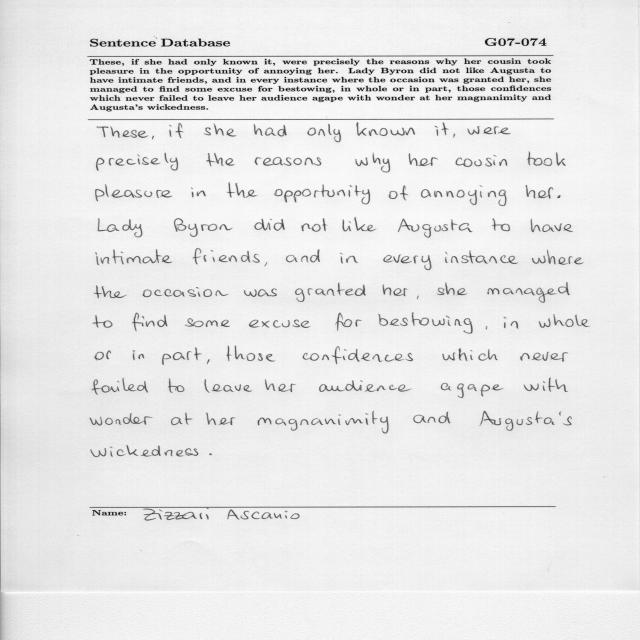word: (258, 411, 389, 434), (378, 313, 473, 334), (303, 346, 413, 364), (275, 185, 371, 205), (479, 411, 572, 431), (421, 186, 506, 207), (487, 282, 570, 303), (97, 153, 178, 171), (398, 219, 472, 238), (295, 283, 366, 302), (96, 184, 172, 201), (91, 445, 198, 457), (96, 249, 172, 265), (193, 248, 260, 265), (174, 218, 233, 237), (319, 380, 411, 392), (445, 250, 518, 264), (92, 378, 148, 395), (441, 383, 504, 398), (98, 219, 143, 238), (143, 287, 228, 297), (356, 122, 415, 136), (532, 250, 584, 265), (90, 413, 152, 425), (383, 255, 432, 270), (227, 346, 276, 361), (538, 314, 590, 328), (442, 348, 498, 361), (162, 347, 202, 365), (205, 379, 253, 393), (355, 153, 390, 172), (132, 313, 168, 331), (456, 155, 508, 167), (524, 378, 568, 392), (97, 126, 148, 138), (307, 124, 341, 142), (255, 157, 322, 166), (530, 219, 573, 232), (249, 319, 310, 328), (527, 152, 566, 166), (342, 218, 377, 232), (227, 182, 257, 198), (520, 352, 568, 362), (336, 313, 362, 331), (286, 250, 320, 263), (254, 124, 287, 137), (94, 286, 127, 299), (204, 124, 236, 137), (413, 412, 450, 423), (206, 153, 235, 167), (185, 319, 230, 328), (437, 283, 467, 296), (265, 379, 295, 392), (468, 126, 511, 135), (526, 185, 553, 199), (409, 153, 438, 166), (254, 219, 285, 231), (301, 218, 327, 232), (206, 413, 236, 425), (244, 288, 277, 297), (389, 186, 408, 201), (383, 285, 408, 296), (171, 413, 193, 425), (93, 315, 113, 328), (168, 378, 185, 393), (492, 219, 510, 232), (169, 123, 183, 138), (340, 253, 358, 264), (435, 123, 449, 137), (95, 350, 111, 361), (504, 317, 518, 329), (191, 188, 206, 198), (133, 350, 144, 360), (207, 359, 210, 364), (557, 195, 561, 198), (265, 262, 268, 266), (152, 136, 154, 140), (453, 134, 455, 138), (417, 296, 419, 300), (486, 326, 488, 330), (209, 453, 212, 455)
